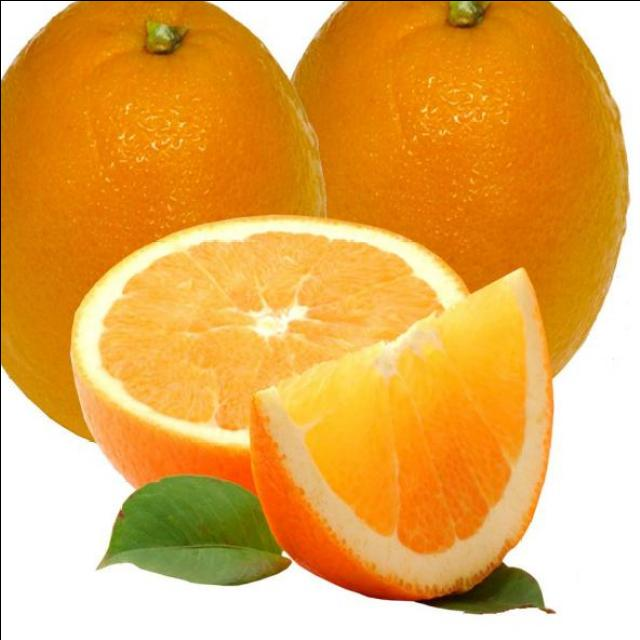orange: (0, 0, 351, 478), (265, 0, 637, 427)
